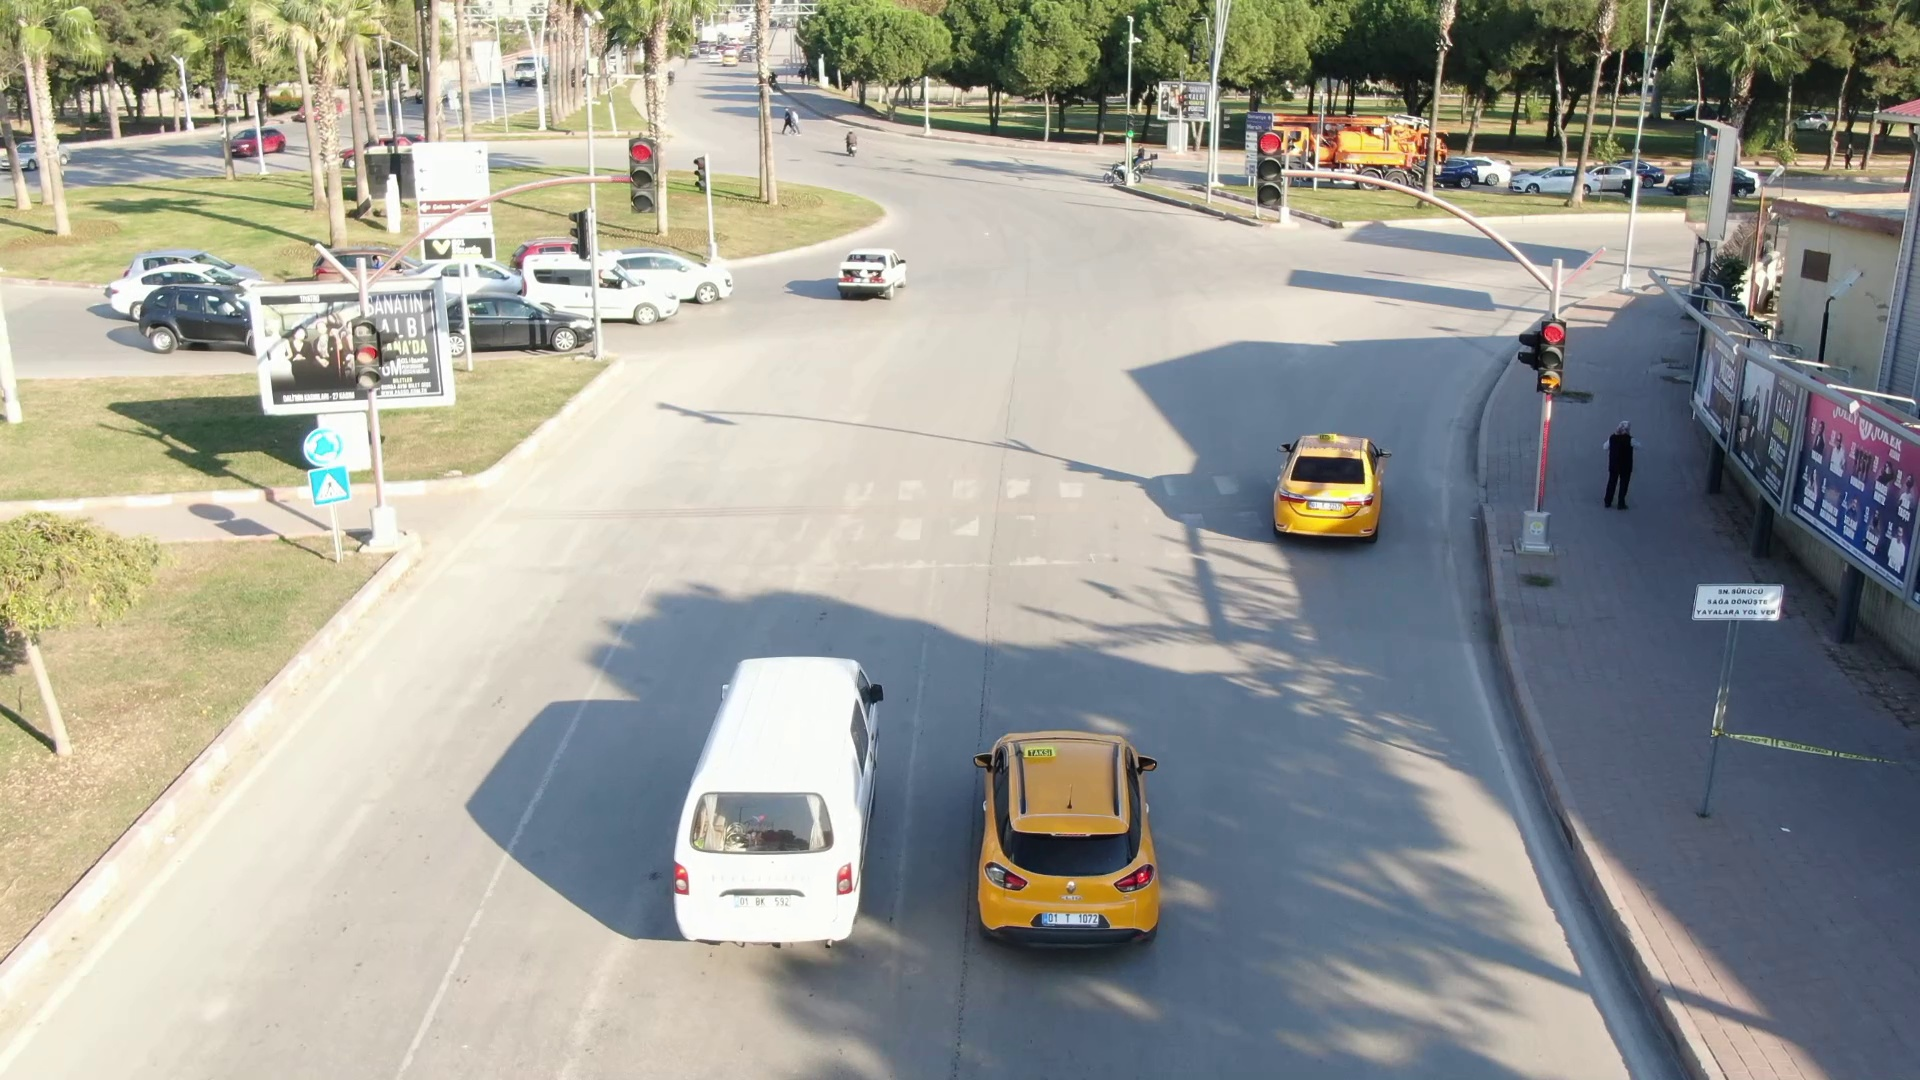car: (659, 610, 886, 970), (939, 712, 1180, 955), (1267, 429, 1400, 553), (523, 243, 684, 331), (439, 288, 600, 359), (825, 241, 915, 314)
person: (1590, 406, 1639, 521)
